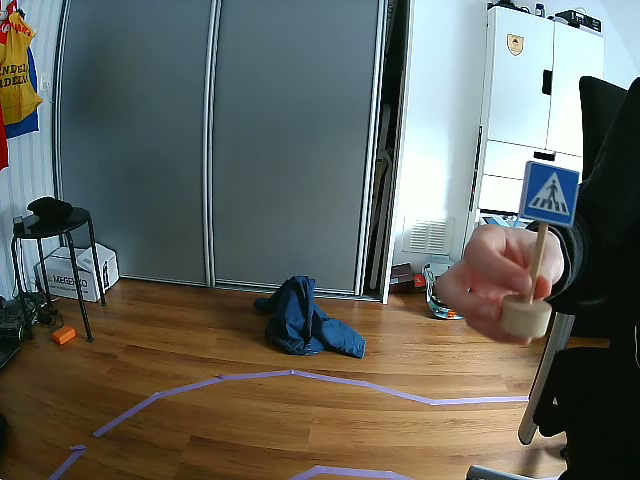zebrapad: (516, 161, 580, 227)
